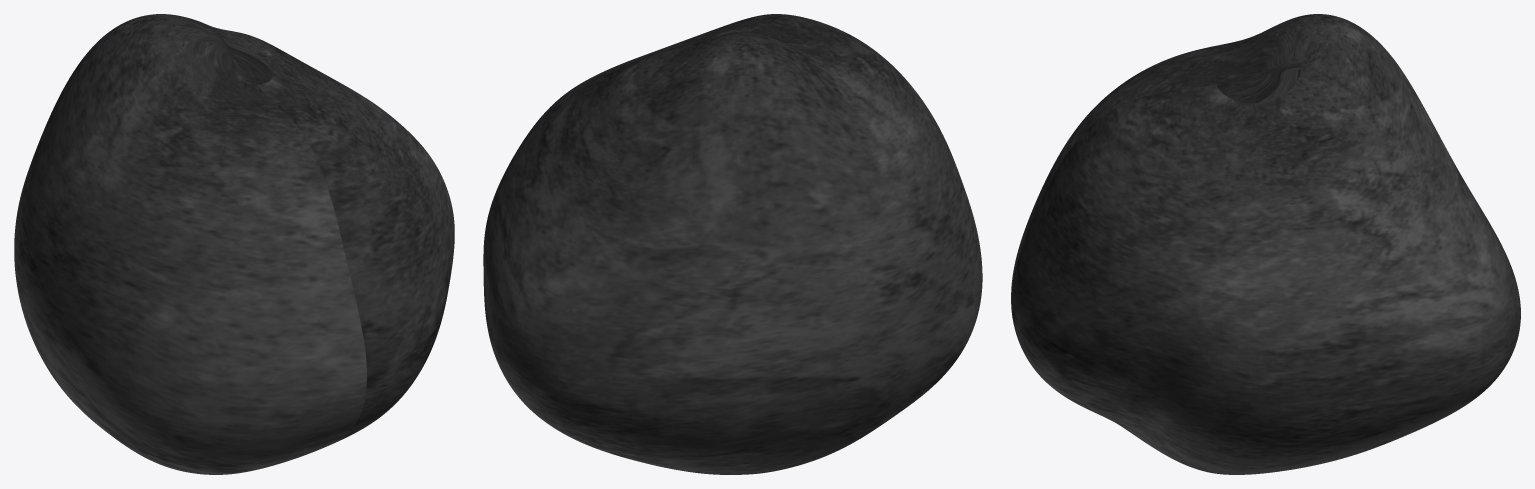
Rendered from Asteroid_1-2.fbx.
3 renders of one model, left to right at view 1: azimuth 30°, elevation 25°; view 2: azimuth 150°, elevation 25°; view 3: azimuth 270°, elevation 25°, orthographic. The views are drawn at different scales.
Parts seen in each view (by area): view 1: Asteroid_1-2.001; view 2: Asteroid_1-2.001; view 3: Asteroid_1-2.001.
Part boxes in pixels (box(x1,y1,x2,y2)): Asteroid_1-2.001: box(14, 14, 454, 474); Asteroid_1-2.001: box(483, 14, 982, 474); Asteroid_1-2.001: box(1011, 14, 1520, 474).
Size of the model in its own units: 2 by 2.23 by 1.94.
Materials: 1 (1 with a texture image).
